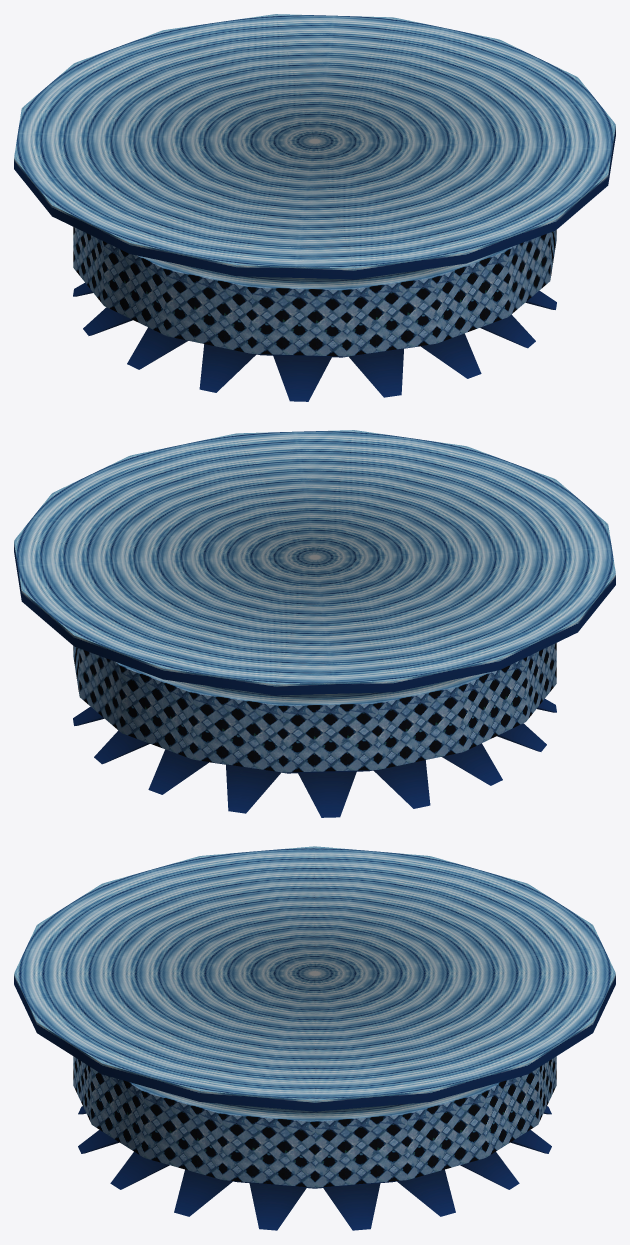
Rendered from FloatingPlatform.FBX.
3 renders of one model, top to bottom at view 1: azimuth 30°, elevation 25°; view 2: azimuth 150°, elevation 25°; view 3: azimuth 270°, elevation 25°, orthographic.
Parts seen in each view (by area): view 1: Cylinder016; view 2: Cylinder016; view 3: Cylinder016.
Boxes of the visible parts, box(x1,y1,x2,y2) form: Cylinder016: box(14, 14, 615, 401); Cylinder016: box(14, 430, 615, 817); Cylinder016: box(14, 846, 615, 1230).
Size of the model in its own units: 98.12 by 28.22 by 98.12.
1 material, 1 textured.
